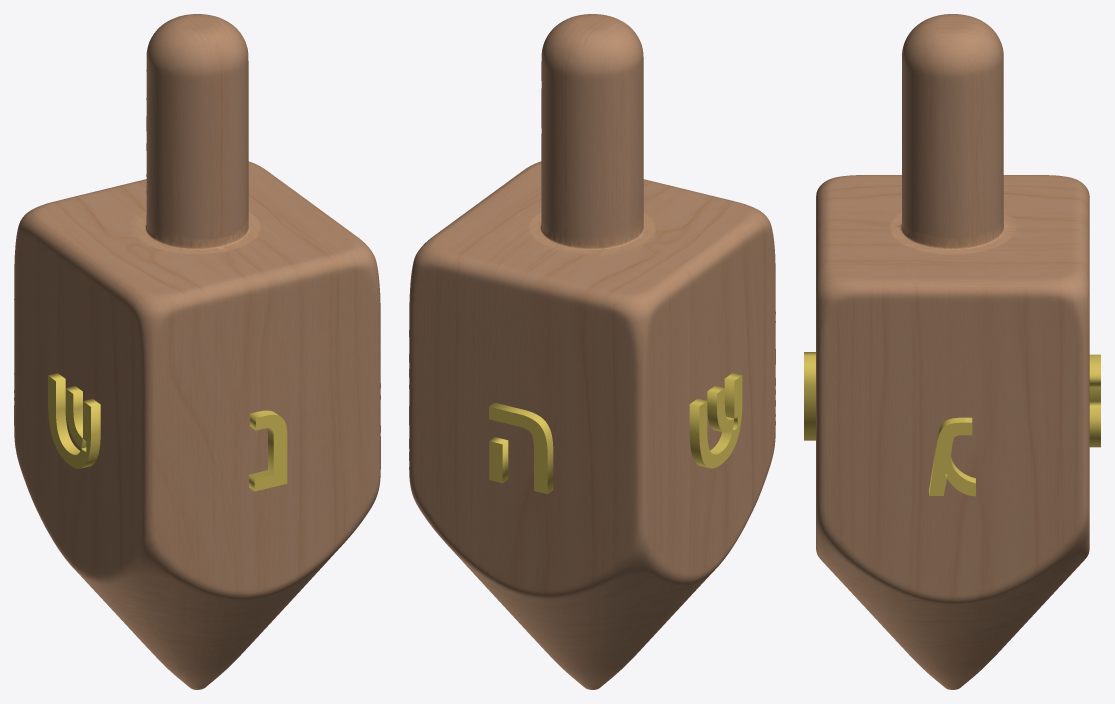
File: dreidel_meshopt.glb
3 renders of one model, left to right at view 1: azimuth 30°, elevation 25°; view 2: azimuth 150°, elevation 25°; view 3: azimuth 270°, elevation 25°, orthographic.
Visible parts, largest first — view 1: Mesh_0, Letter_Shin, Letter_Nun; view 2: Mesh_0, Letter_Shin, Letter_Hey; view 3: Mesh_0, Letter_Gimel, Letter_Hey, Letter_Nun.
Part boxes in pixels (x1,y1,x2,y2): Mesh_0: (14,14,380,689); Letter_Shin: (48,373,100,468); Letter_Nun: (249,410,287,491); Mesh_0: (409,14,775,689); Letter_Shin: (689,373,742,468); Letter_Hey: (489,402,553,494); Mesh_0: (816,14,1089,689); Letter_Gimel: (929,417,975,496); Letter_Hey: (1089,354,1100,447); Letter_Nun: (804,352,815,440).
Bounding box in the file's own units: 0.77 × 1.9 × 0.77.
2 materials, 1 textured.
